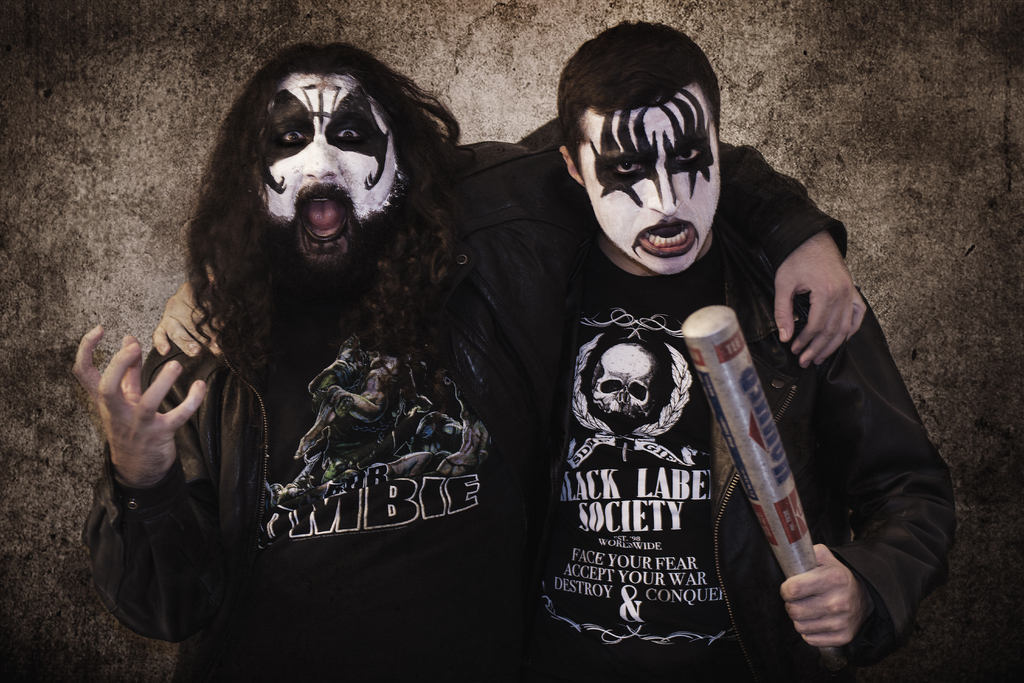Person: (152, 19, 955, 682), (72, 43, 865, 682)
